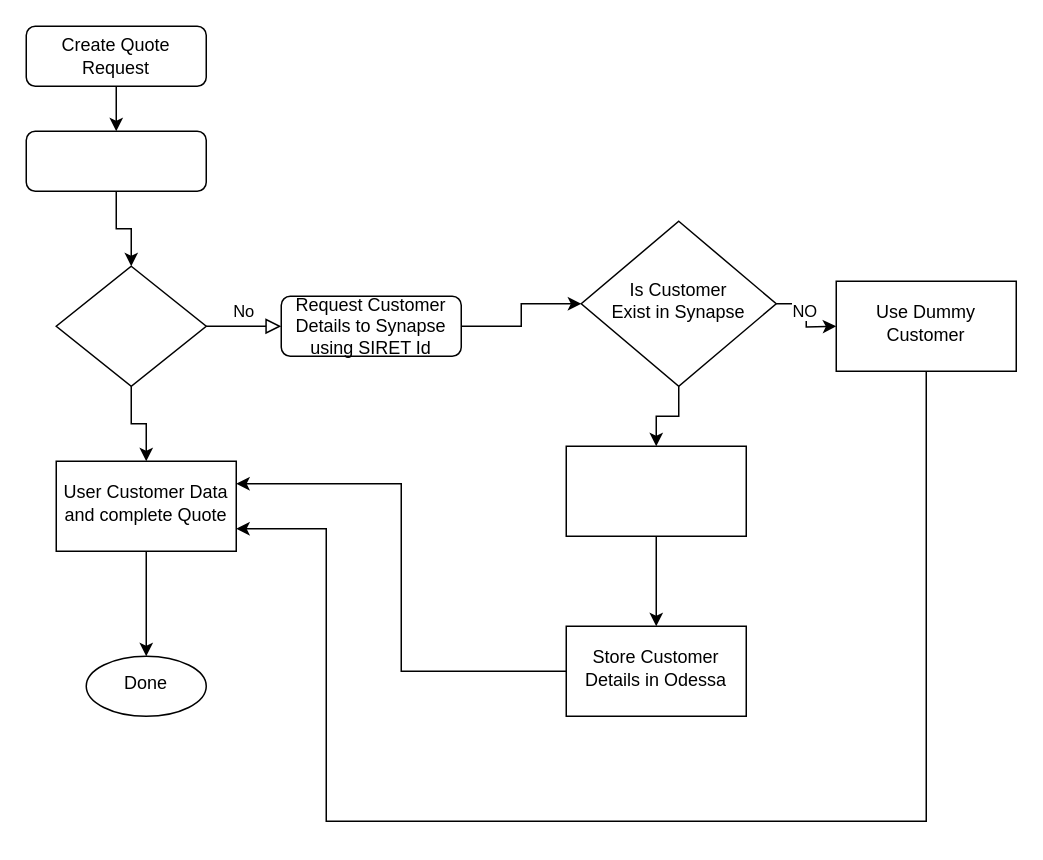
The diagram is 1043 pixels wide and 860 high, and some of its shapes have lost their labels. The shapes that lost their labels are listed below. From the top down, each one's centre as x and y in pixels, then its label:
At point (115, 160): "Customer Look Up".
At point (130, 325): "Check Customer Exist in Odessa".
At point (655, 490): "Fetch Details".
